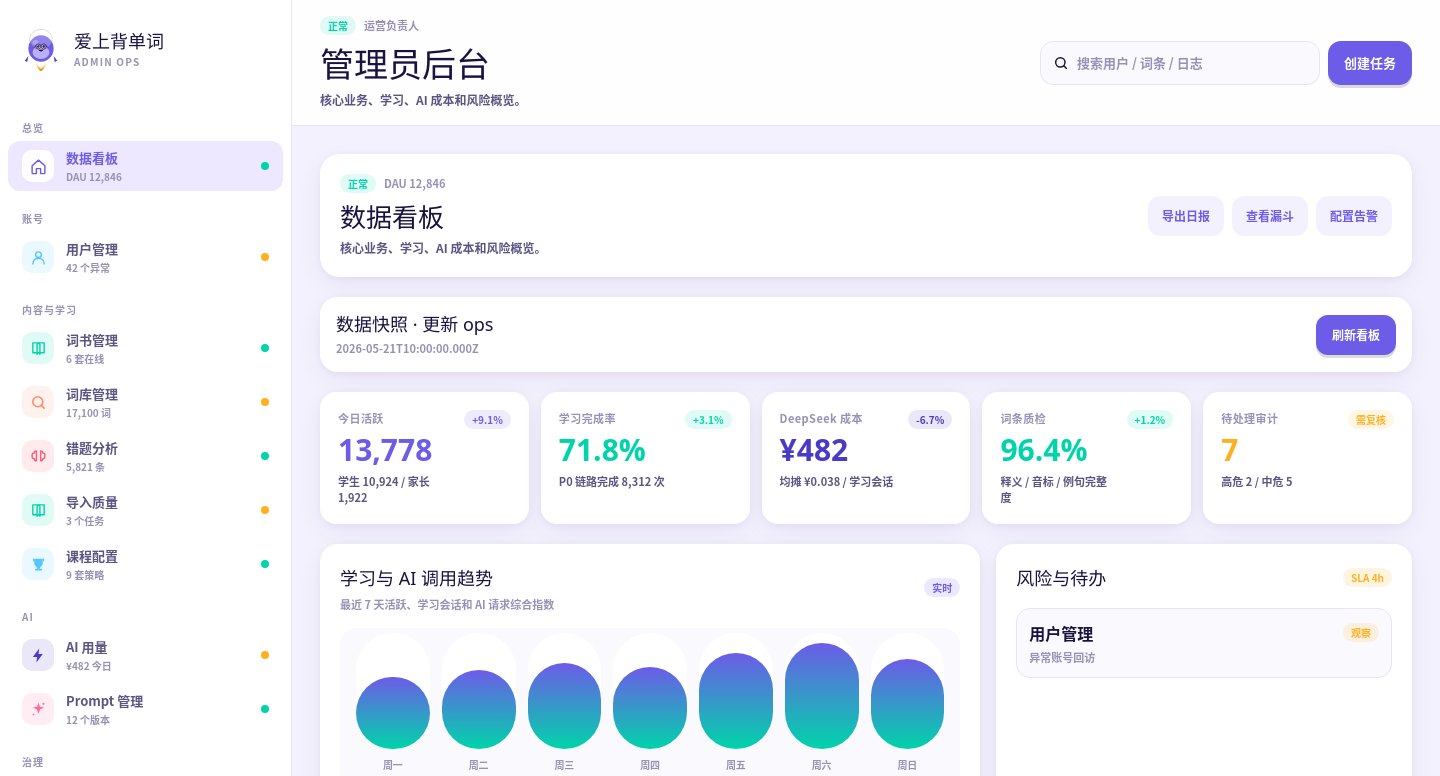
AdminScreen › loads dashboard snapshots and refreshes metrics
expect the text "13,778" is shown: met, box x1=338 y1=428 x2=432 y2=470
expect the heading "数据快照 · 更新 ops" is shown: met, box x1=336 y1=313 x2=494 y2=336
Step 1. Click the button "刷新看板" → coordinates (1356, 334), box x1=1316 y1=314 x2=1396 y2=354
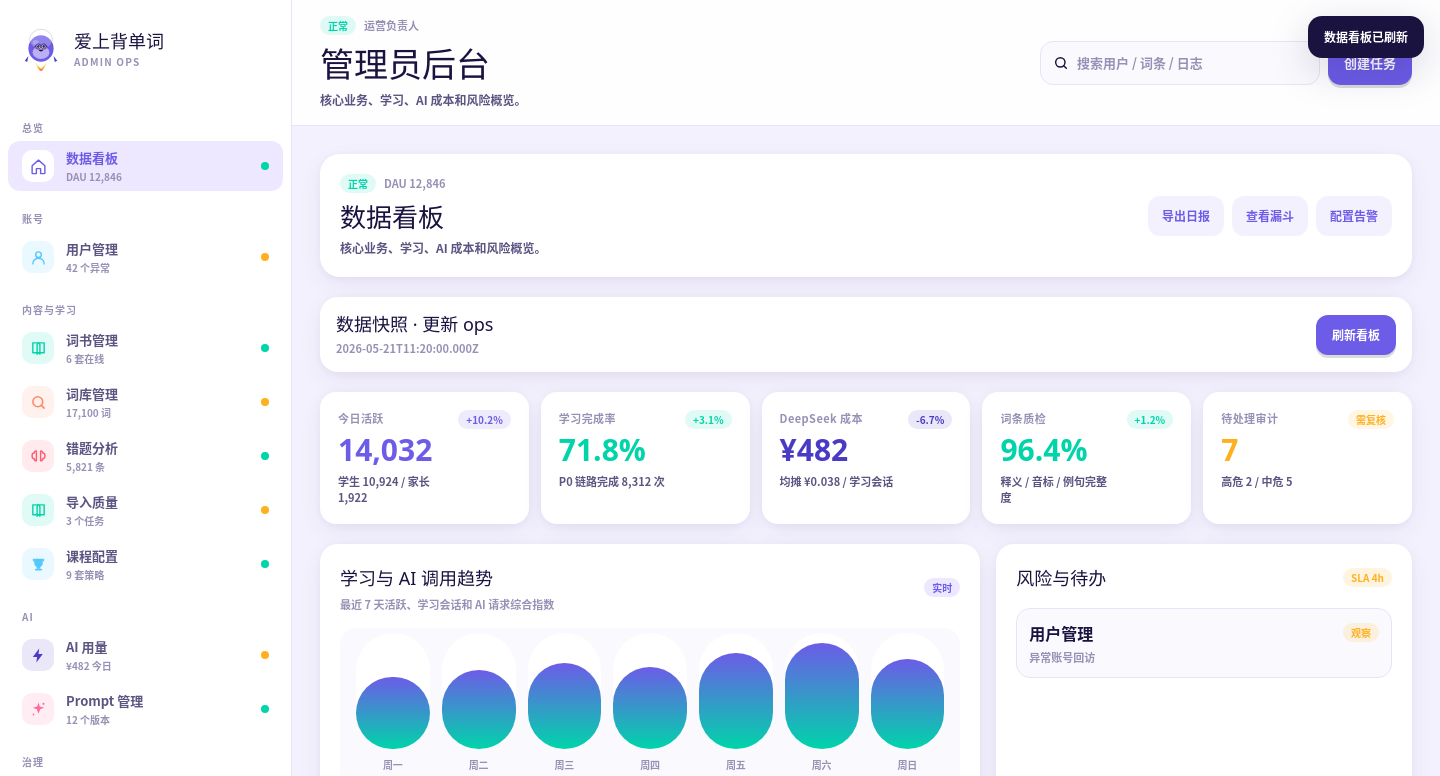
expect the text "14,032" is shown: met, box x1=338 y1=434 x2=446 y2=464
expect the text "数据看板已刷新" is shown: met, box x1=1308 y1=16 x2=1424 y2=58
